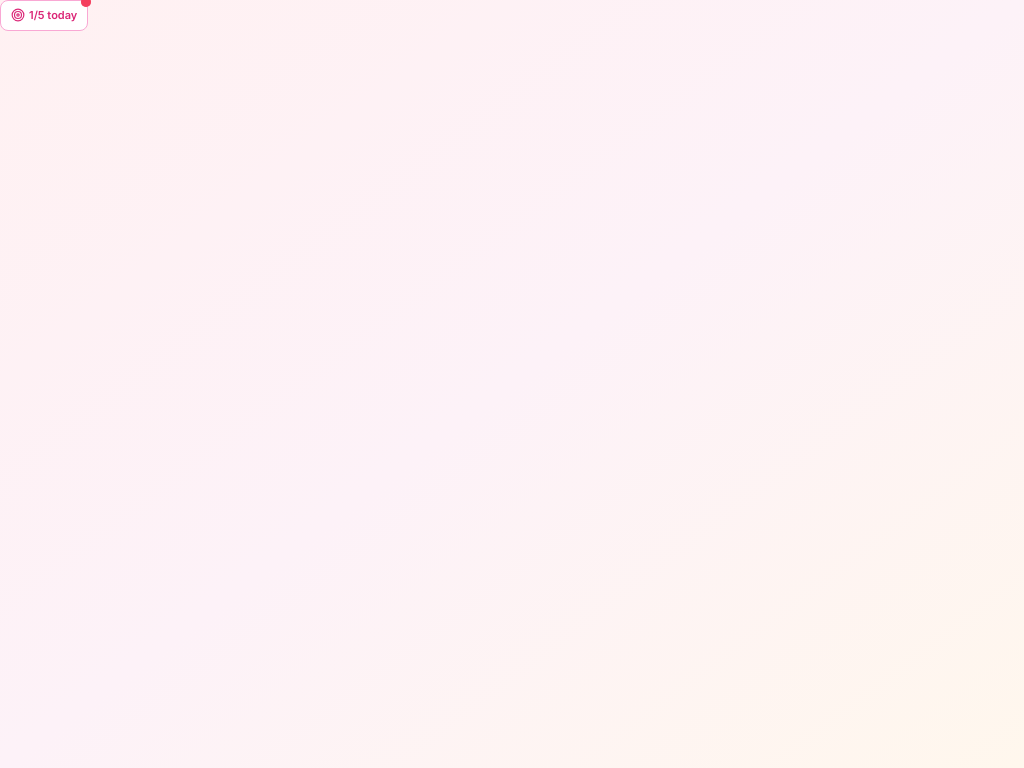
objectives button › shows the day's set once the core is done, with counts and the hard one marked
This screenshot has width=1024, height=768.
Later steps or results of the test are not shown.
What coordinates should you click on to do the following:
click the button with aria-label "1 of 5 done today"
I would click on:
 (44, 15)
Its box is [0,0,88,30].
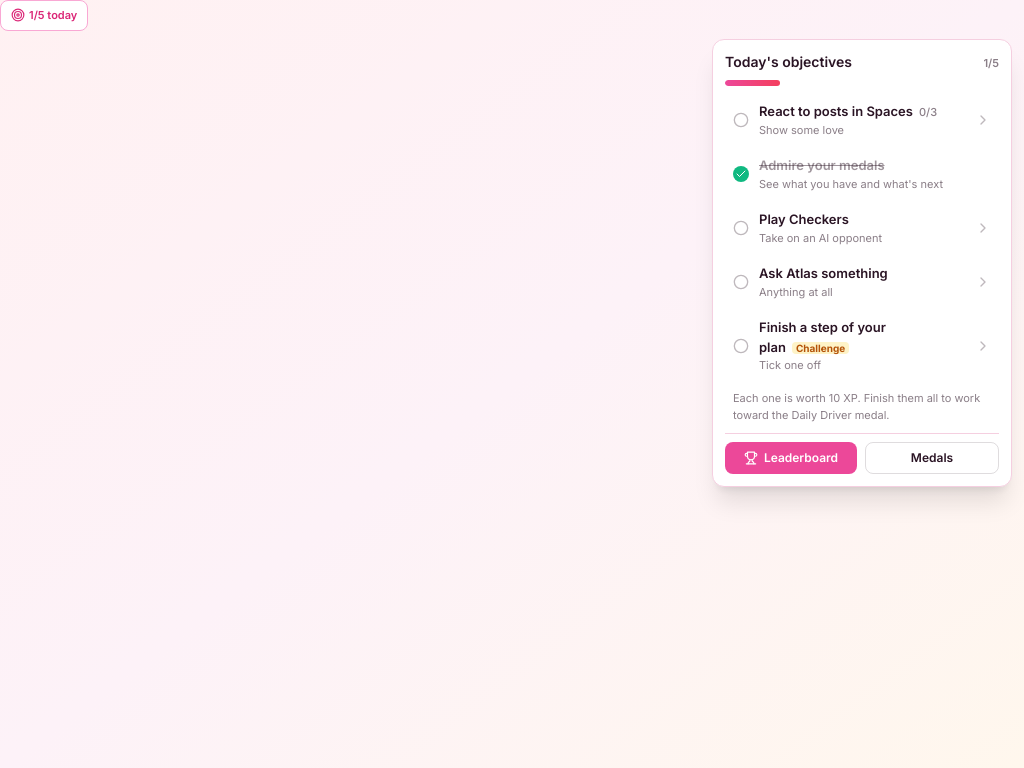
expect the text "Today's objectives" is shown: met, box [725,52,852,72]
expect the text "0/3" is shown: met, box [919,105,937,119]
expect the text "Challenge" is shown: met, box [792,342,849,354]
